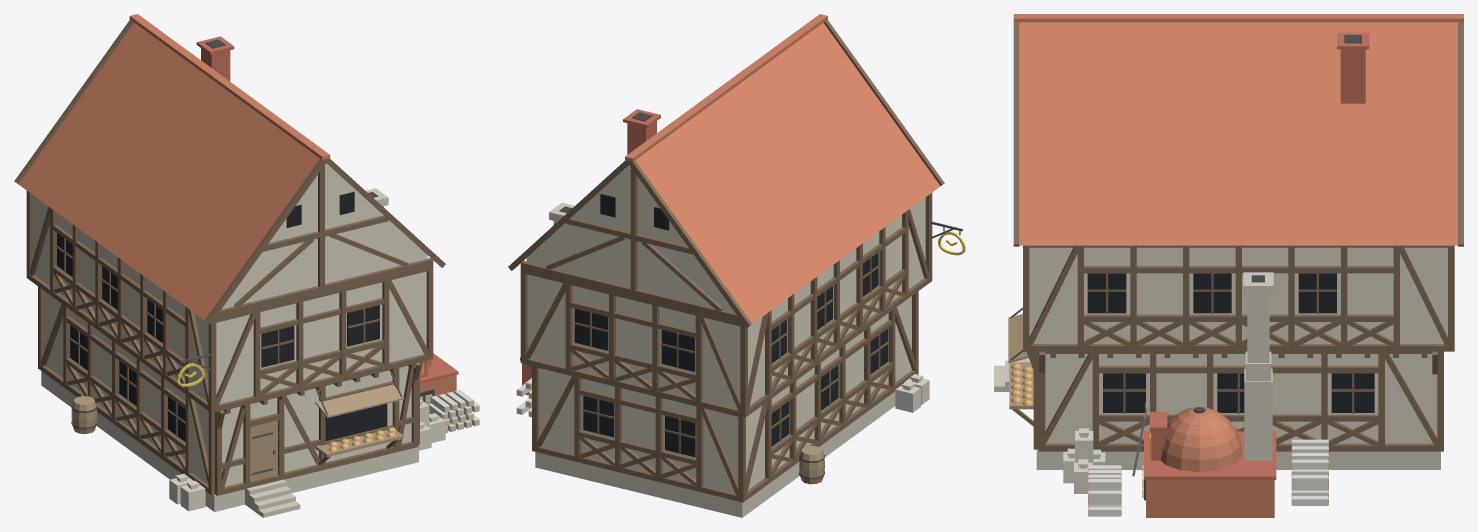
The model's file is house_baker.glb.
The picture shows the model from 3 angles, left to right: view 1: azimuth 30°, elevation 25°; view 2: azimuth 150°, elevation 25°; view 3: azimuth 270°, elevation 25°; orthographic projection. The views are drawn at different scales.
Parts seen in each view (by area): view 1: HouseBaker; view 2: HouseBaker; view 3: HouseBaker.
Part boxes in pixels (x1,y1,x2,y2): HouseBaker: (14, 14, 479, 517); HouseBaker: (508, 14, 965, 517); HouseBaker: (994, 14, 1463, 517).
Size of the model in its own units: 12.55 by 12.21 by 13.15.
